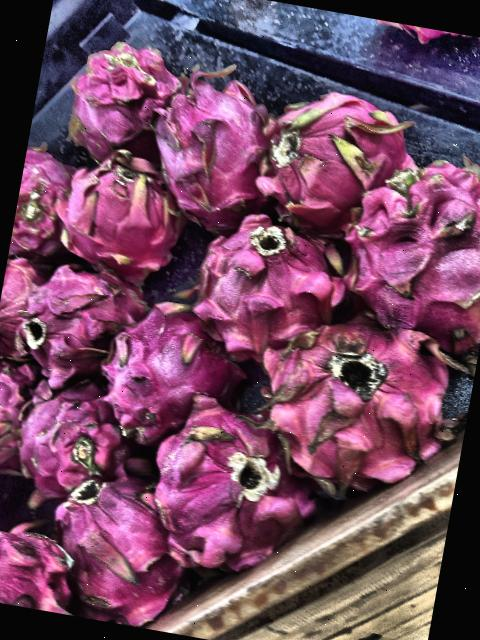buah-naga-matang: (239, 300, 454, 506), (128, 388, 332, 594), (328, 147, 480, 364), (27, 456, 207, 632), (166, 202, 343, 368), (246, 68, 410, 240), (128, 68, 283, 246), (89, 286, 244, 462), (0, 375, 149, 528), (44, 144, 194, 291), (46, 39, 194, 187), (0, 246, 139, 384)
